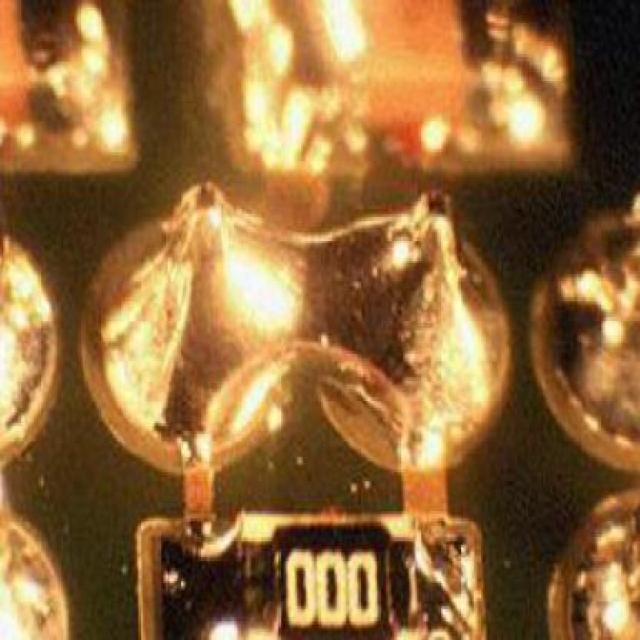Soldering shorted: (85, 162, 508, 462)
